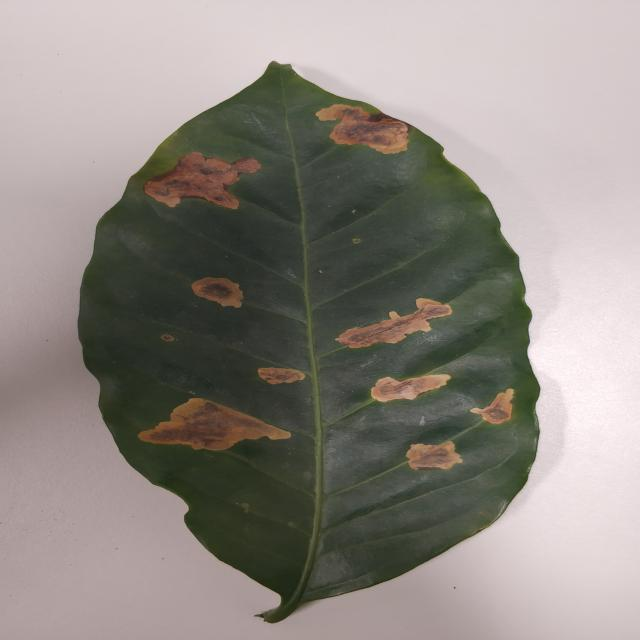Plaga-Minador: (77, 62, 542, 626)
